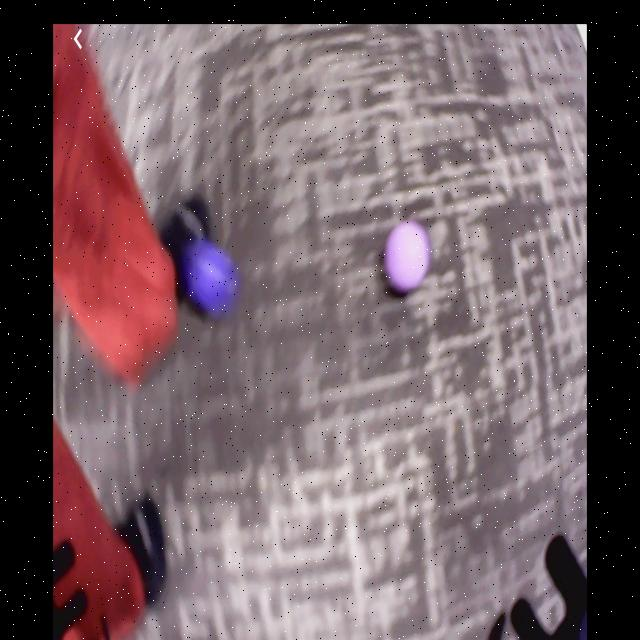ball: (387, 224, 430, 289), (195, 248, 236, 316)
